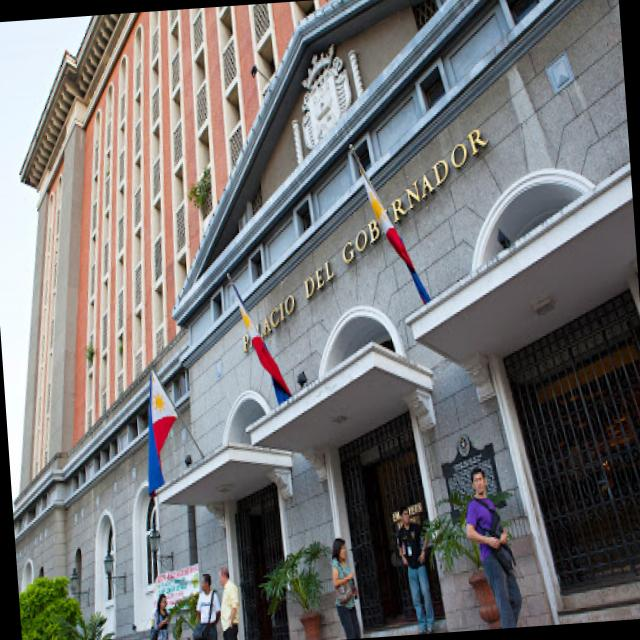Palacio de Gobernador: (14, 0, 640, 640)
